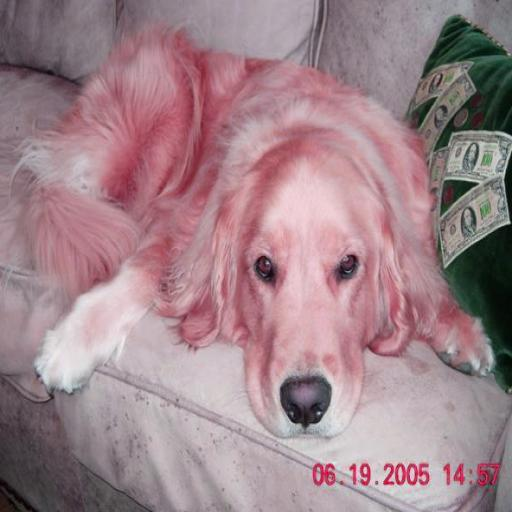dog_face: (213, 149, 376, 422)
